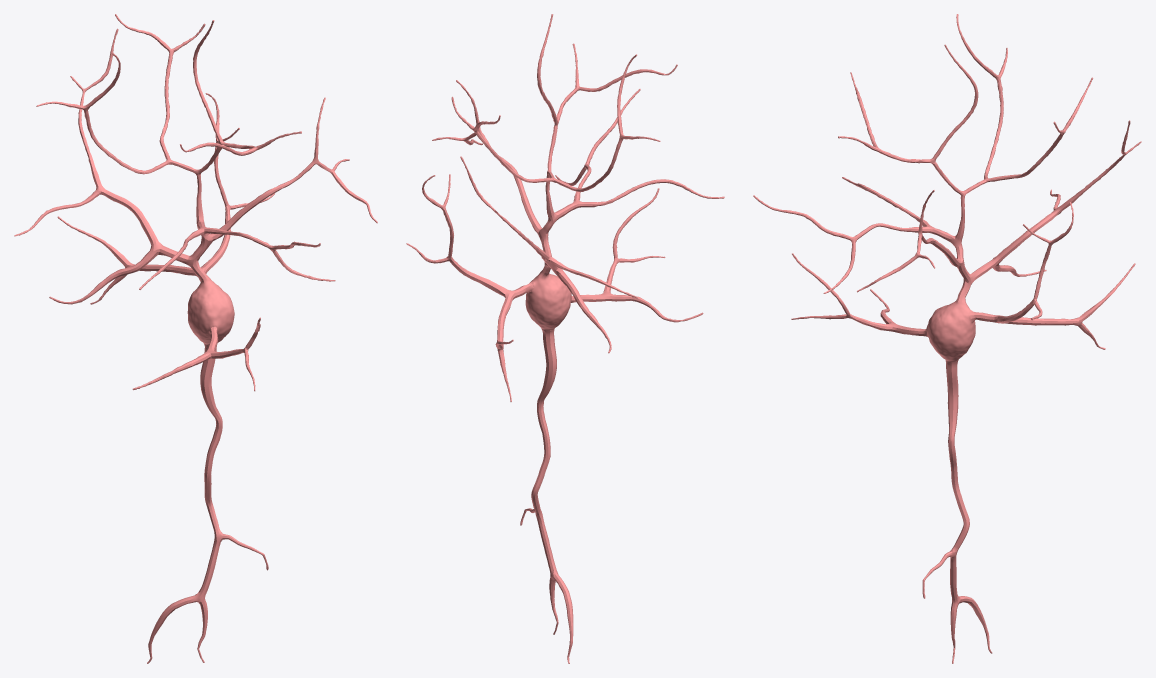
The picture shows the model from 3 angles, left to right: view 1: azimuth 30°, elevation 25°; view 2: azimuth 150°, elevation 25°; view 3: azimuth 270°, elevation 25°; orthographic projection. The views are drawn at different scales.
Visible parts, largest first — view 1: Neuron_FG_Cube.012; view 2: Neuron_FG_Cube.012; view 3: Neuron_FG_Cube.012.
Part boxes in pixels (x1,y1,x2,y2): Neuron_FG_Cube.012: [14, 14, 377, 663]; Neuron_FG_Cube.012: [406, 14, 724, 663]; Neuron_FG_Cube.012: [753, 14, 1141, 663].
Bounding box in the file's own units: 542 × 1223 × 685.
